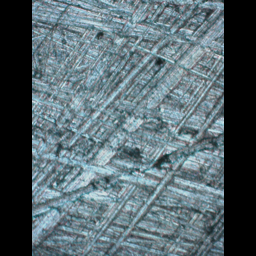d: (35, 41, 224, 255)
